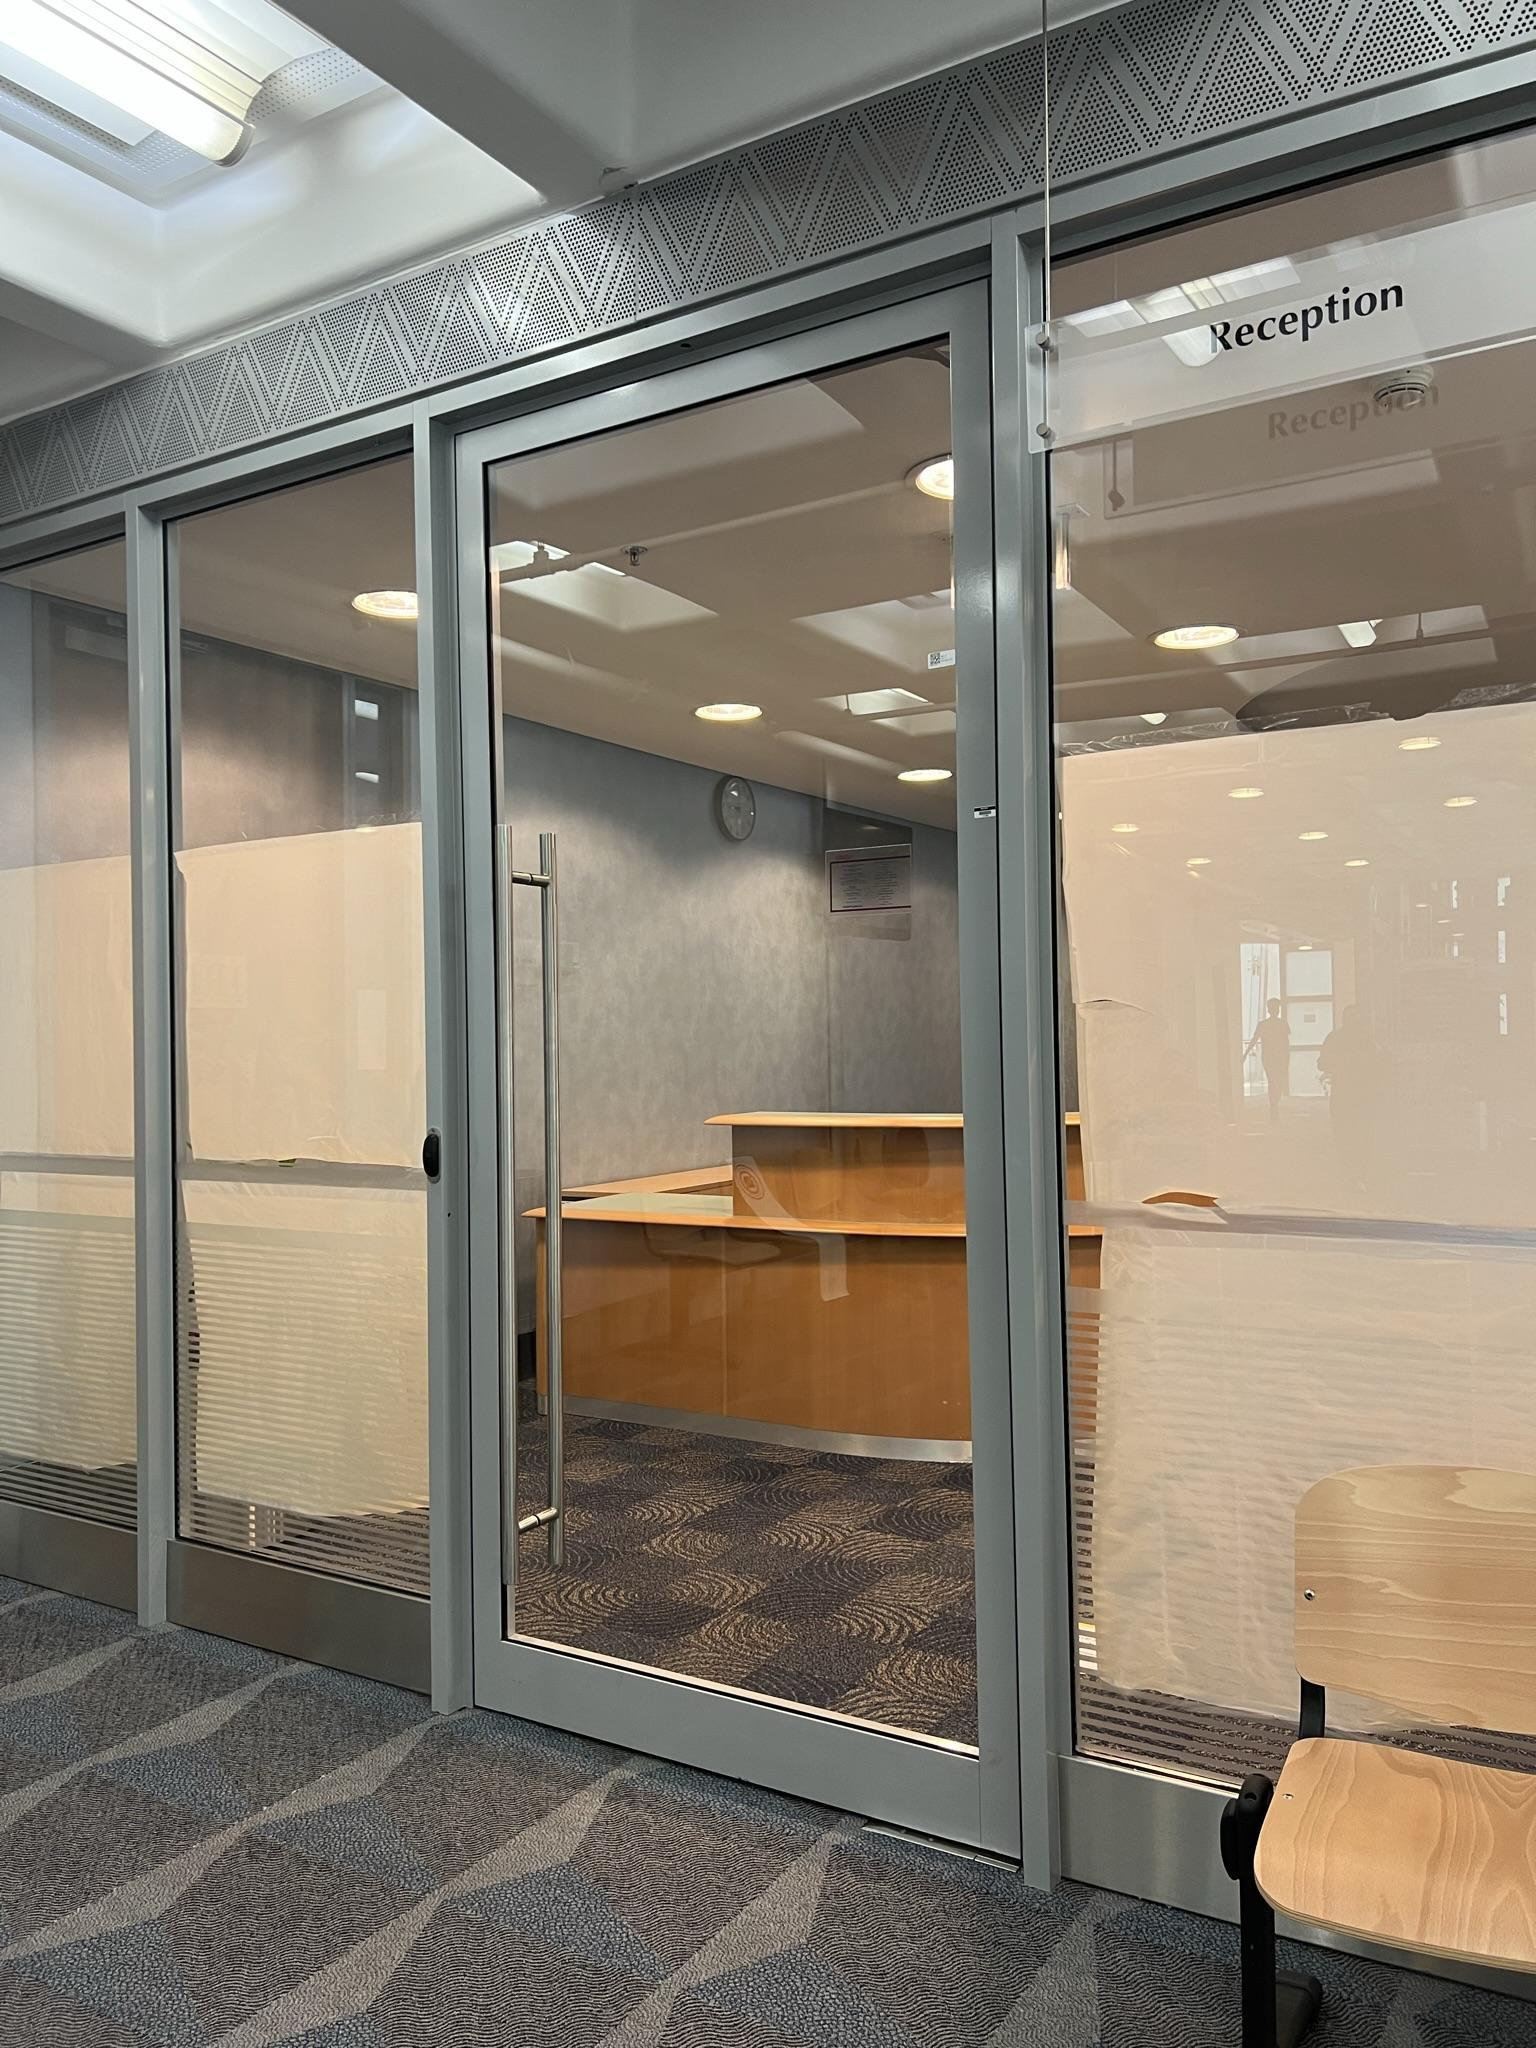door: (437, 346, 1065, 1806)
handle: (482, 821, 533, 1650)
